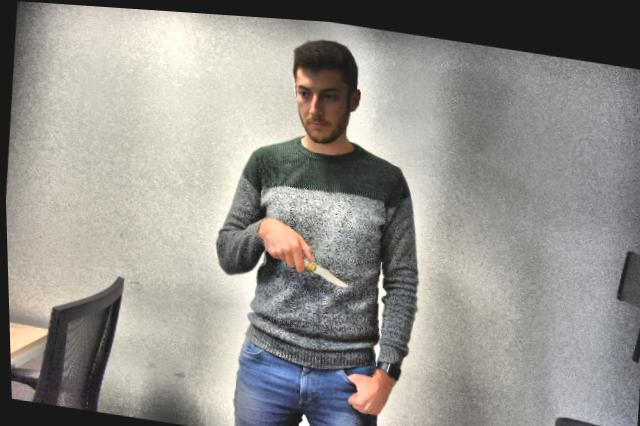knife: (279, 233, 355, 291)
